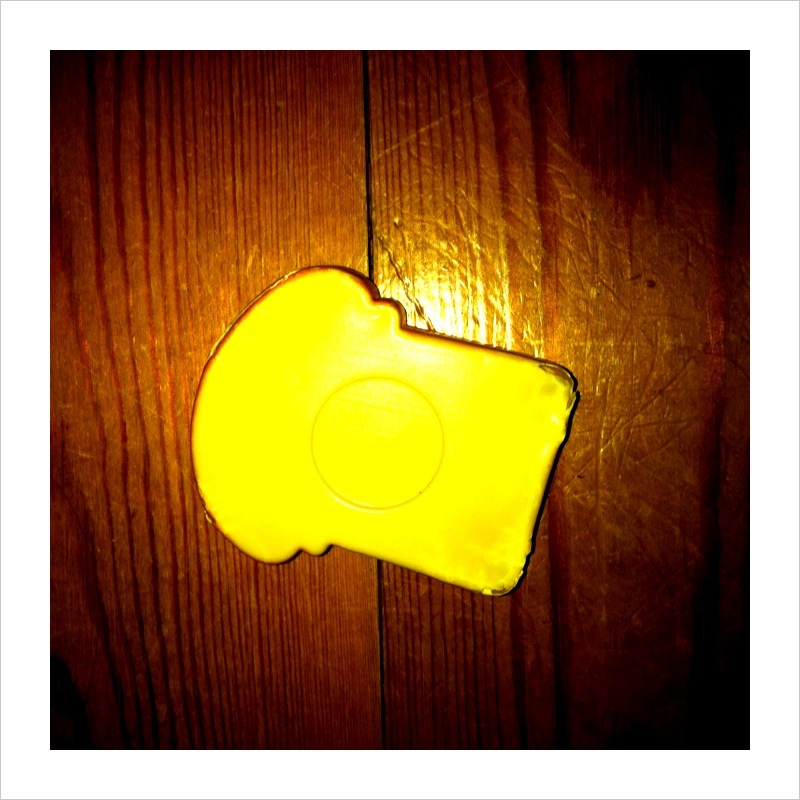slice of bread: (172, 269, 594, 621)
